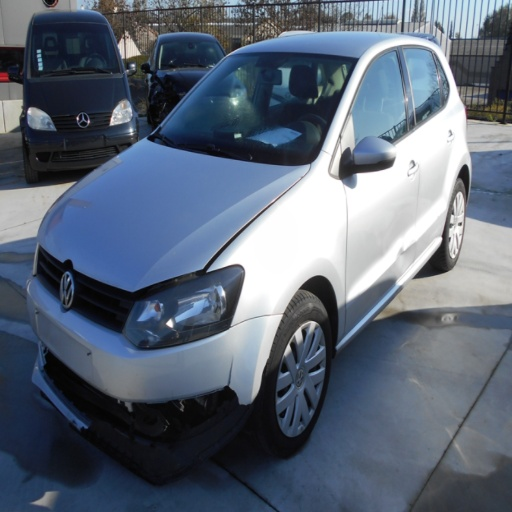dent: (396, 240, 417, 287)
scratch: (300, 424, 303, 433), (281, 419, 283, 427)
